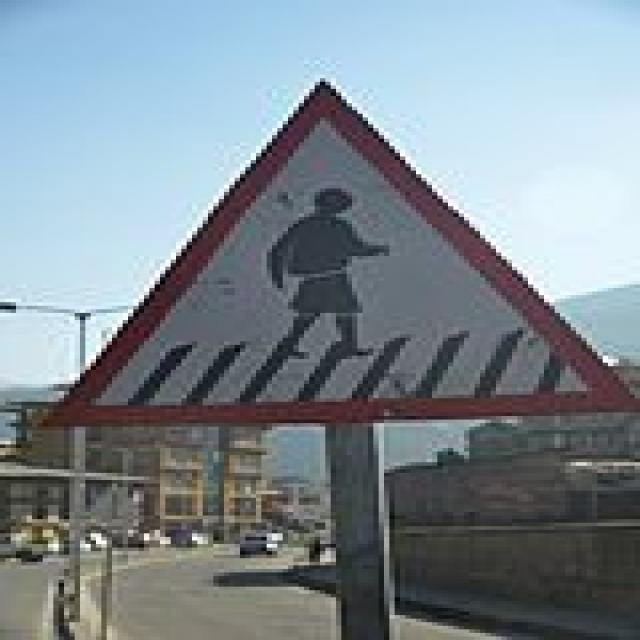Pedestrian crosswalk: (39, 76, 640, 428)
